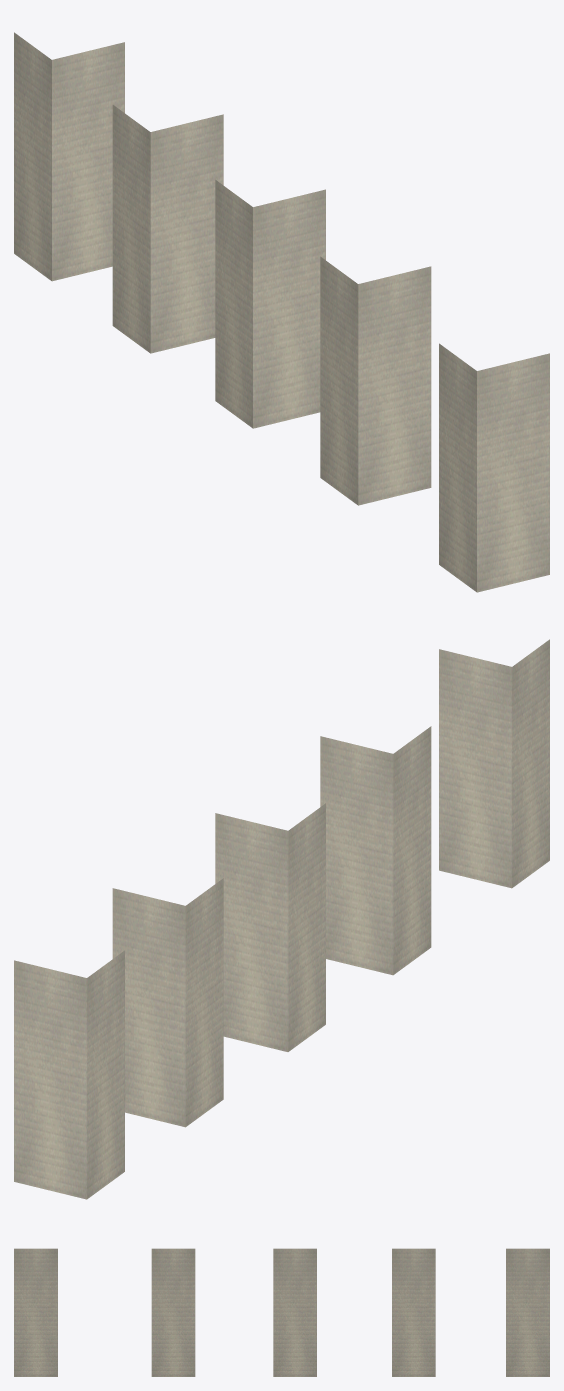
3 views of the same model, one above another, from view 1: azimuth 30°, elevation 25°; view 2: azimuth 150°, elevation 25°; view 3: azimuth 270°, elevation 25° (orthographic). The views are drawn at different scales.
Visible parts, largest first — view 1: Box07; view 2: Box07; view 3: Box07.
Boxes of the visible parts, x1,y1,x2,y2 form: Box07: [14, 32, 549, 592]; Box07: [14, 639, 549, 1199]; Box07: [14, 1248, 549, 1376].
Bounding box in the file's own units: 102 × 295 × 1119.
1 material, 1 textured.
